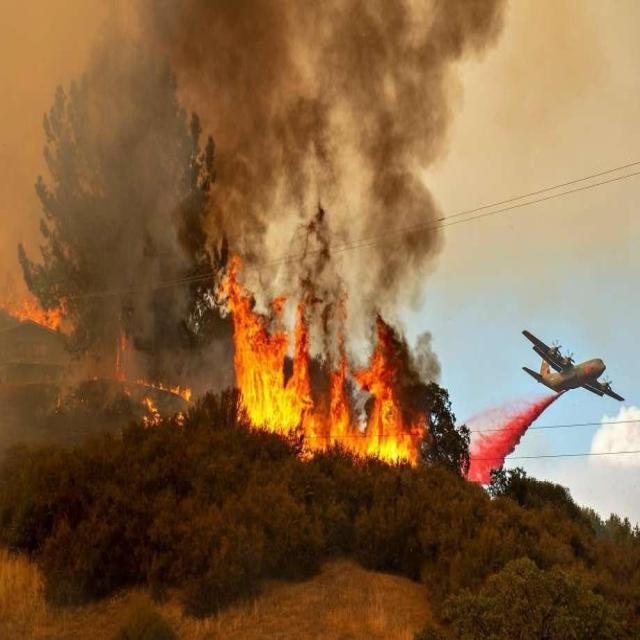Fire: (218, 278, 425, 470), (113, 357, 190, 433), (7, 293, 73, 332)
